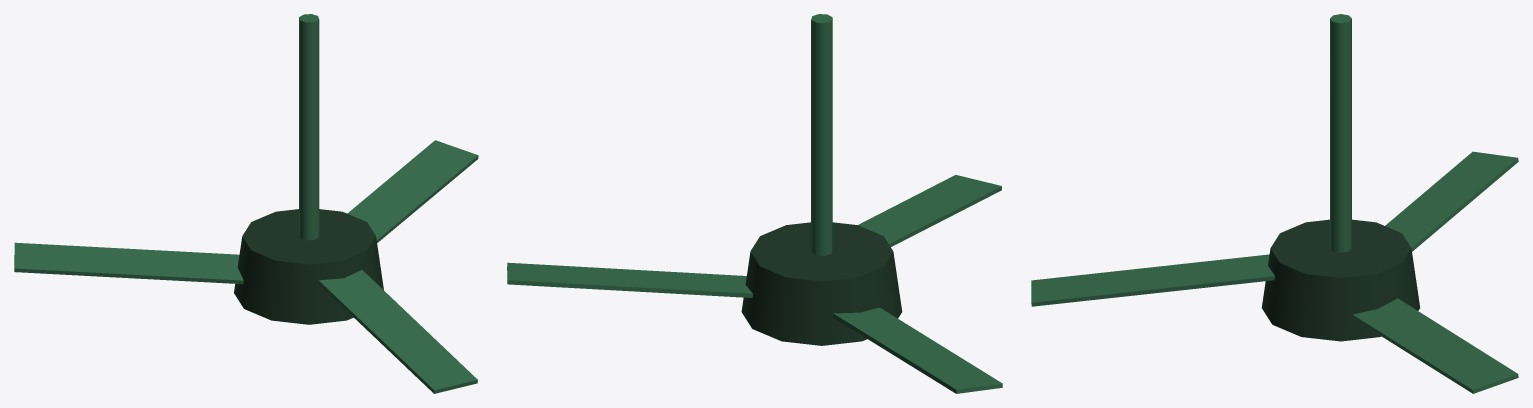
Rendered from CB_PROP_VN_CeilingFan_A.glb.
3 renders of one model, left to right at view 1: azimuth 30°, elevation 25°; view 2: azimuth 150°, elevation 25°; view 3: azimuth 270°, elevation 25°, orthographic. The views are drawn at different scales.
Visible parts, largest first — view 1: CB_PROP_VN_CeilingFan_A; view 2: CB_PROP_VN_CeilingFan_A; view 3: CB_PROP_VN_CeilingFan_A.
Part boxes in pixels (x1,y1,x2,y2): CB_PROP_VN_CeilingFan_A: [14, 14, 478, 393]; CB_PROP_VN_CeilingFan_A: [507, 14, 1002, 393]; CB_PROP_VN_CeilingFan_A: [1031, 14, 1518, 393].
Bounding box in the file's own units: 1.28 × 0.725 × 1.11.
